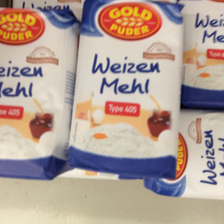flour: (69, 1, 184, 181), (1, 7, 80, 180), (145, 109, 224, 200)
